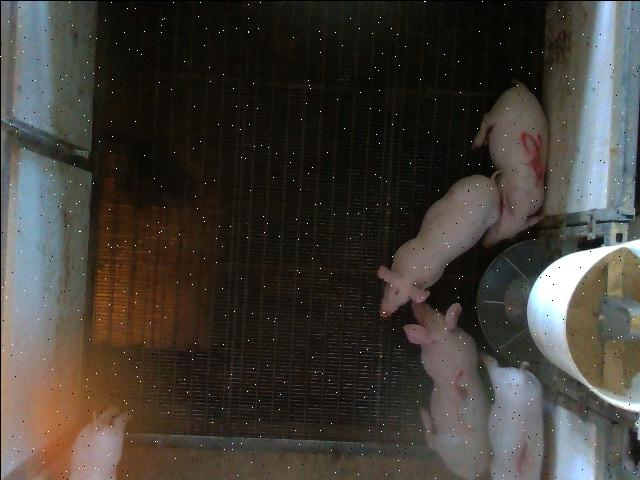pig-1: (481, 352, 541, 478)
pig-3: (402, 301, 489, 478)
pig-5: (471, 79, 548, 246)
